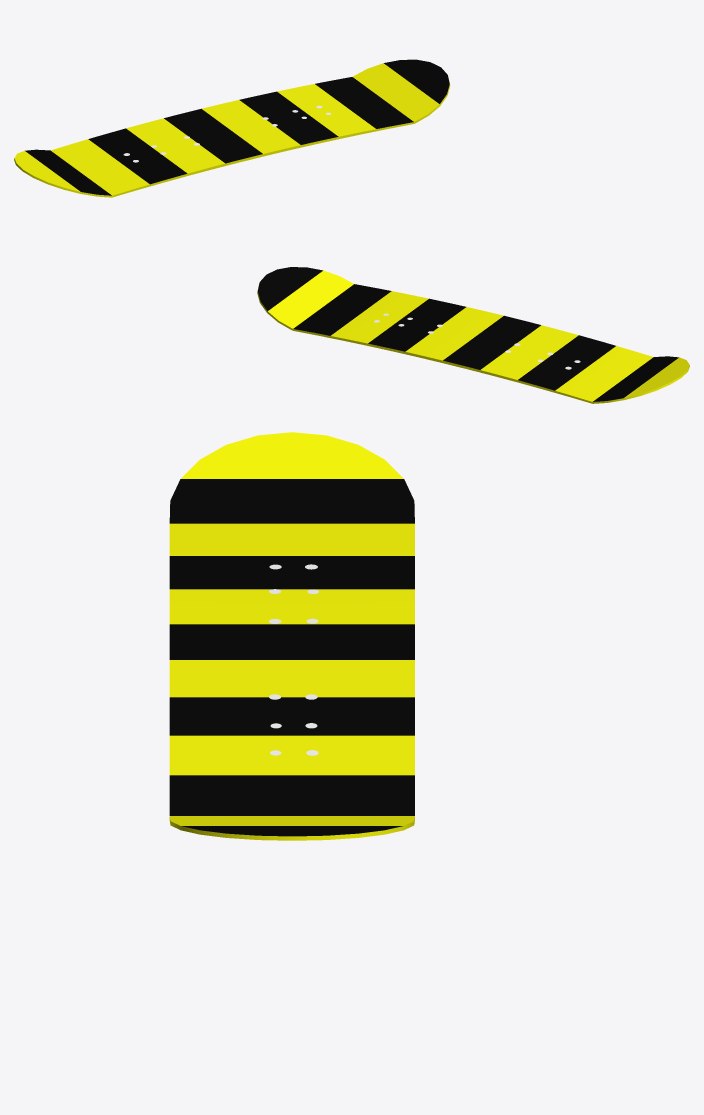
Rendered from SnowboardBee.fbx.
The picture shows the model from 3 angles, top to bottom: view 1: azimuth 30°, elevation 25°; view 2: azimuth 150°, elevation 25°; view 3: azimuth 270°, elevation 25°; orthographic projection. The views are drawn at different scales.
Visible parts, largest first — view 1: Model; view 2: Model; view 3: Model.
Boxes of the visible parts, bbox=[...] form: Model: bbox=[14, 59, 450, 197]; Model: bbox=[257, 267, 689, 403]; Model: bbox=[169, 432, 414, 840].
Size of the model in its own units: 4218291 by 119509 by 1002160.
